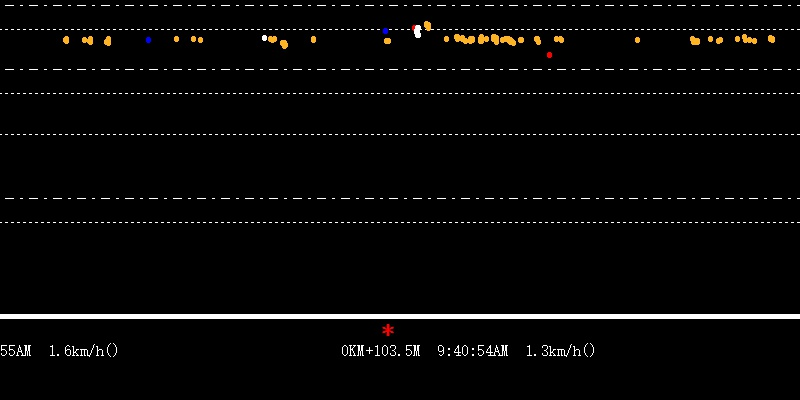face_1: (422, 19, 433, 33)
face_s: (410, 21, 420, 39)
star: (380, 322, 394, 337)
